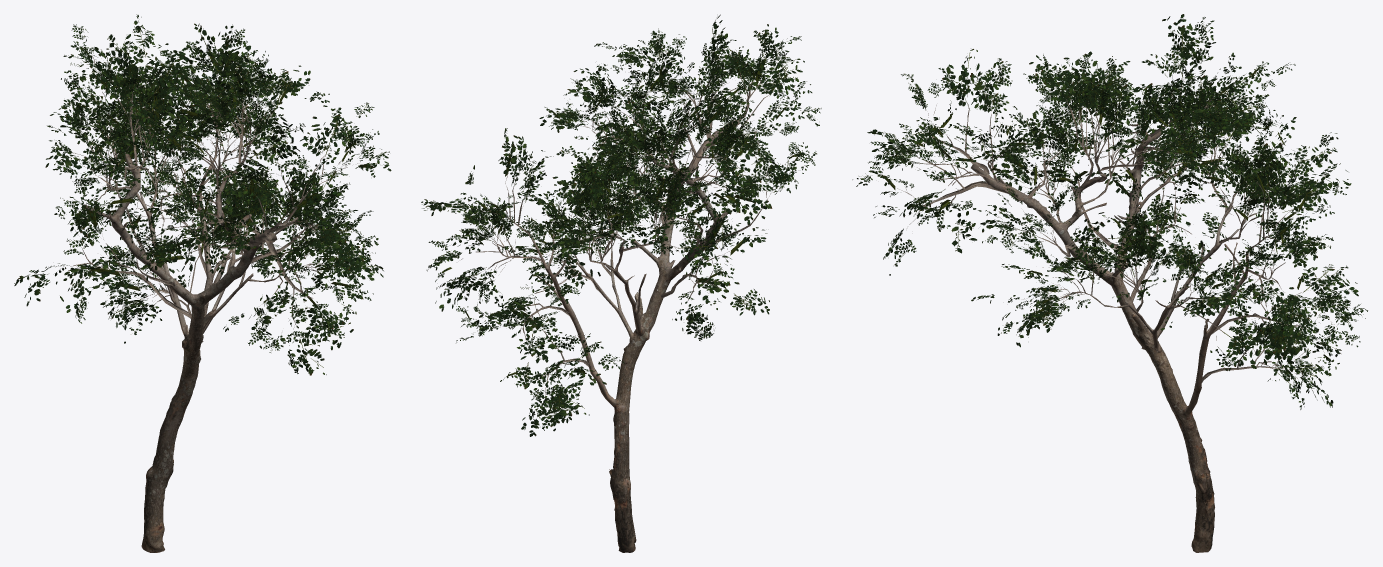
Rendered from courtyard-tree-NVUJRGO7.glb.
3 renders of one model, left to right at view 1: azimuth 30°, elevation 25°; view 2: azimuth 150°, elevation 25°; view 3: azimuth 270°, elevation 25°, orthographic. The views are drawn at different scales.
Visible parts, largest first — view 1: leaves, trunk, branches; view 2: leaves, trunk, branches; view 3: leaves, trunk, branches.
Boxes of the visible parts, <box> form: leaves: <box>14,14,391,375</box>; trunk: <box>84,153,298,552</box>; branches: <box>73,55,357,345</box>; leaves: <box>421,14,821,436</box>; trunk: <box>530,121,740,552</box>; branches: <box>454,52,794,398</box>; leaves: <box>852,14,1367,409</box>; trunk: <box>971,124,1248,552</box>; branches: <box>889,54,1336,382</box>.
Bounding box in the file's own units: 2.93 × 4.57 × 4.3.
3 materials, 3 textured.
